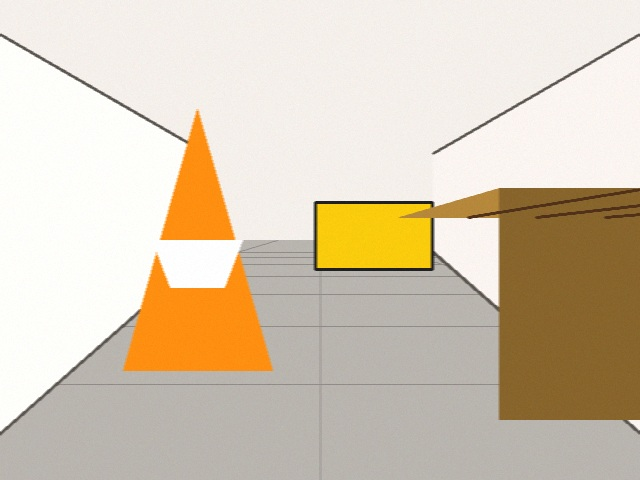forklift: (315, 202, 432, 269)
obstacle: (123, 109, 272, 370)
pallet: (399, 188, 639, 419)
